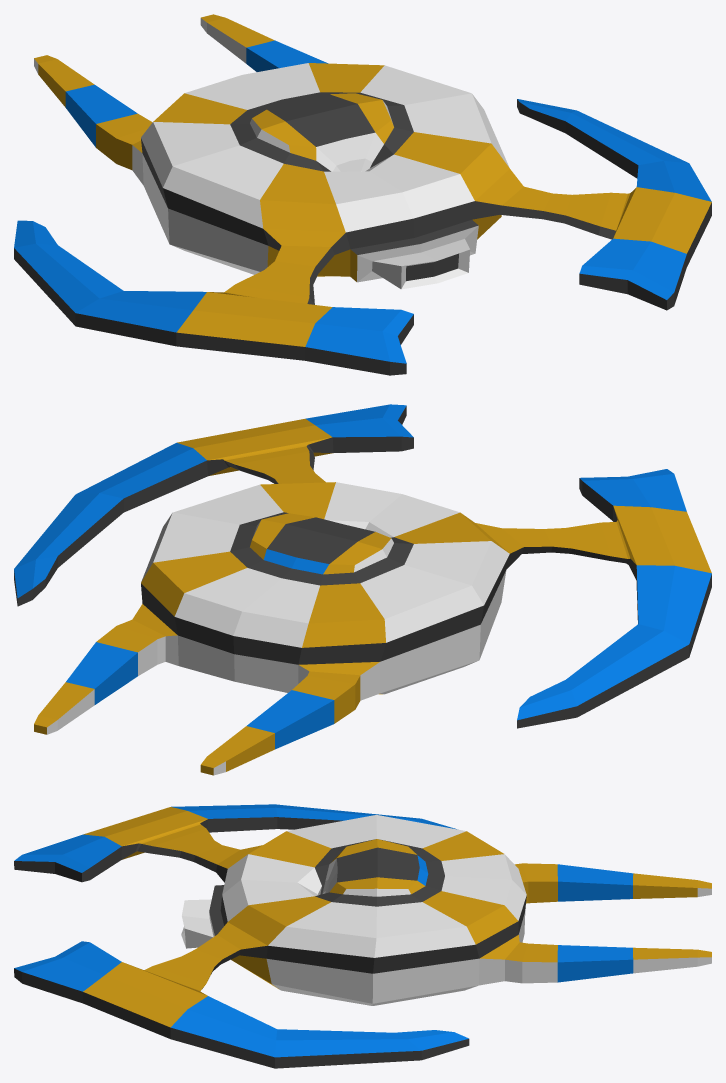
The model's file is nave.fbx.
The picture shows the model from 3 angles, top to bottom: view 1: azimuth 30°, elevation 25°; view 2: azimuth 150°, elevation 25°; view 3: azimuth 270°, elevation 25°; orthographic projection. The views are drawn at different scales.
Parts seen in each view (by area): view 1: Cube; view 2: Cube; view 3: Cube.
Boxes of the visible parts, x1=… form: Cube: x1=14, y1=14, x2=711, y2=375; Cube: x1=14, y1=404, x2=711, y2=775; Cube: x1=14, y1=804, x2=711, y2=1068.
Bounding box in the file's own units: 521 × 82.81 × 607.
